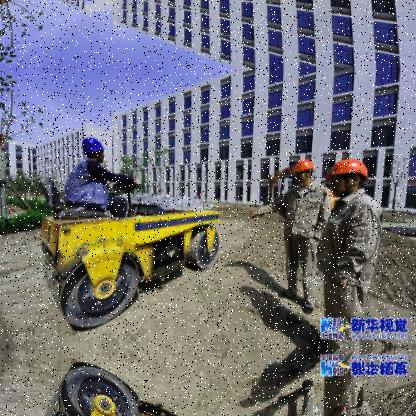Helmet: (327, 158, 373, 198), (82, 132, 112, 168), (290, 158, 320, 186)
